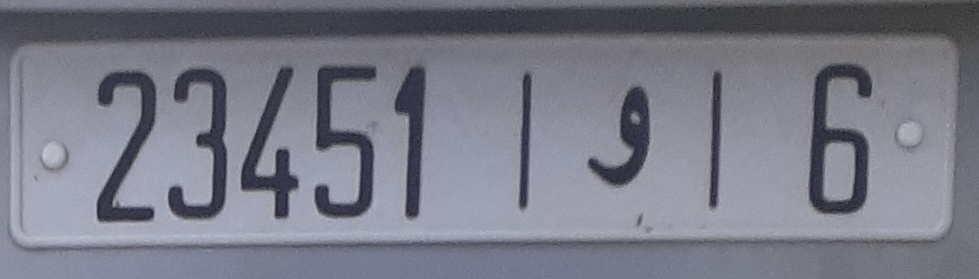1: (383, 51, 451, 229)
2: (82, 62, 160, 228)
3: (160, 59, 234, 226)
4: (235, 59, 303, 228)
5: (306, 57, 387, 225)
6: (801, 49, 879, 225)
waw: (576, 66, 663, 200)
